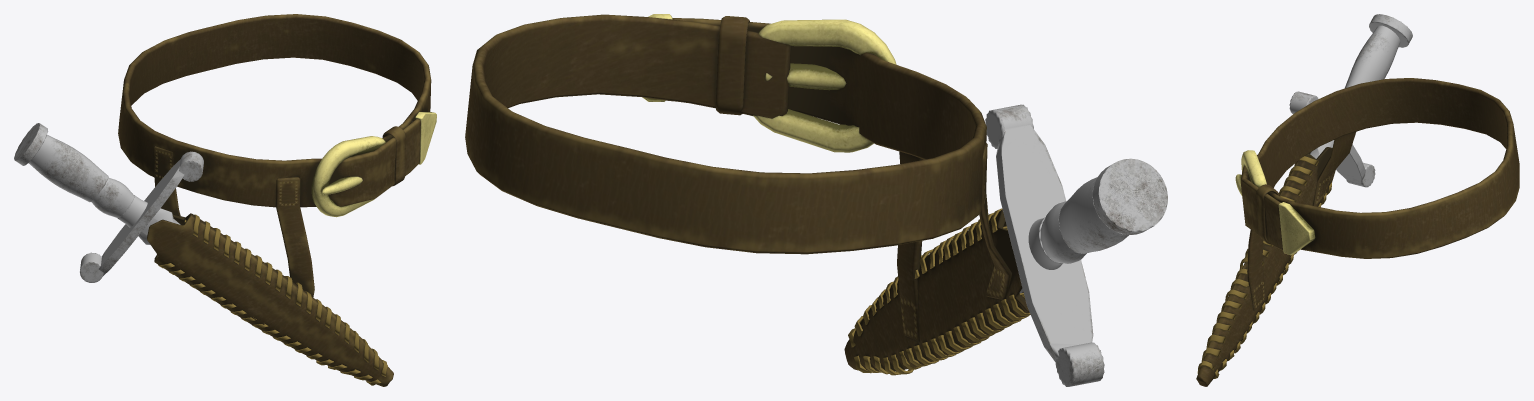
3 views of the same model, side by side, from view 1: azimuth 30°, elevation 25°; view 2: azimuth 150°, elevation 25°; view 3: azimuth 270°, elevation 25° (orthographic). The views are drawn at different scales.
Visible parts, largest first — view 1: Belt, Dagger; view 2: Belt, Dagger; view 3: Belt, Dagger.
Part boxes in pixels (x1,y1,x2,y2): Belt: (118,14,436,386); Dagger: (14,123,203,282); Belt: (465,14,1030,375); Dagger: (985,104,1167,386); Belt: (1196,78,1519,386); Dagger: (1289,14,1412,187).
Size of the model in its own units: 46.08 by 27.8 by 32.5.
2 materials, 2 textured.
